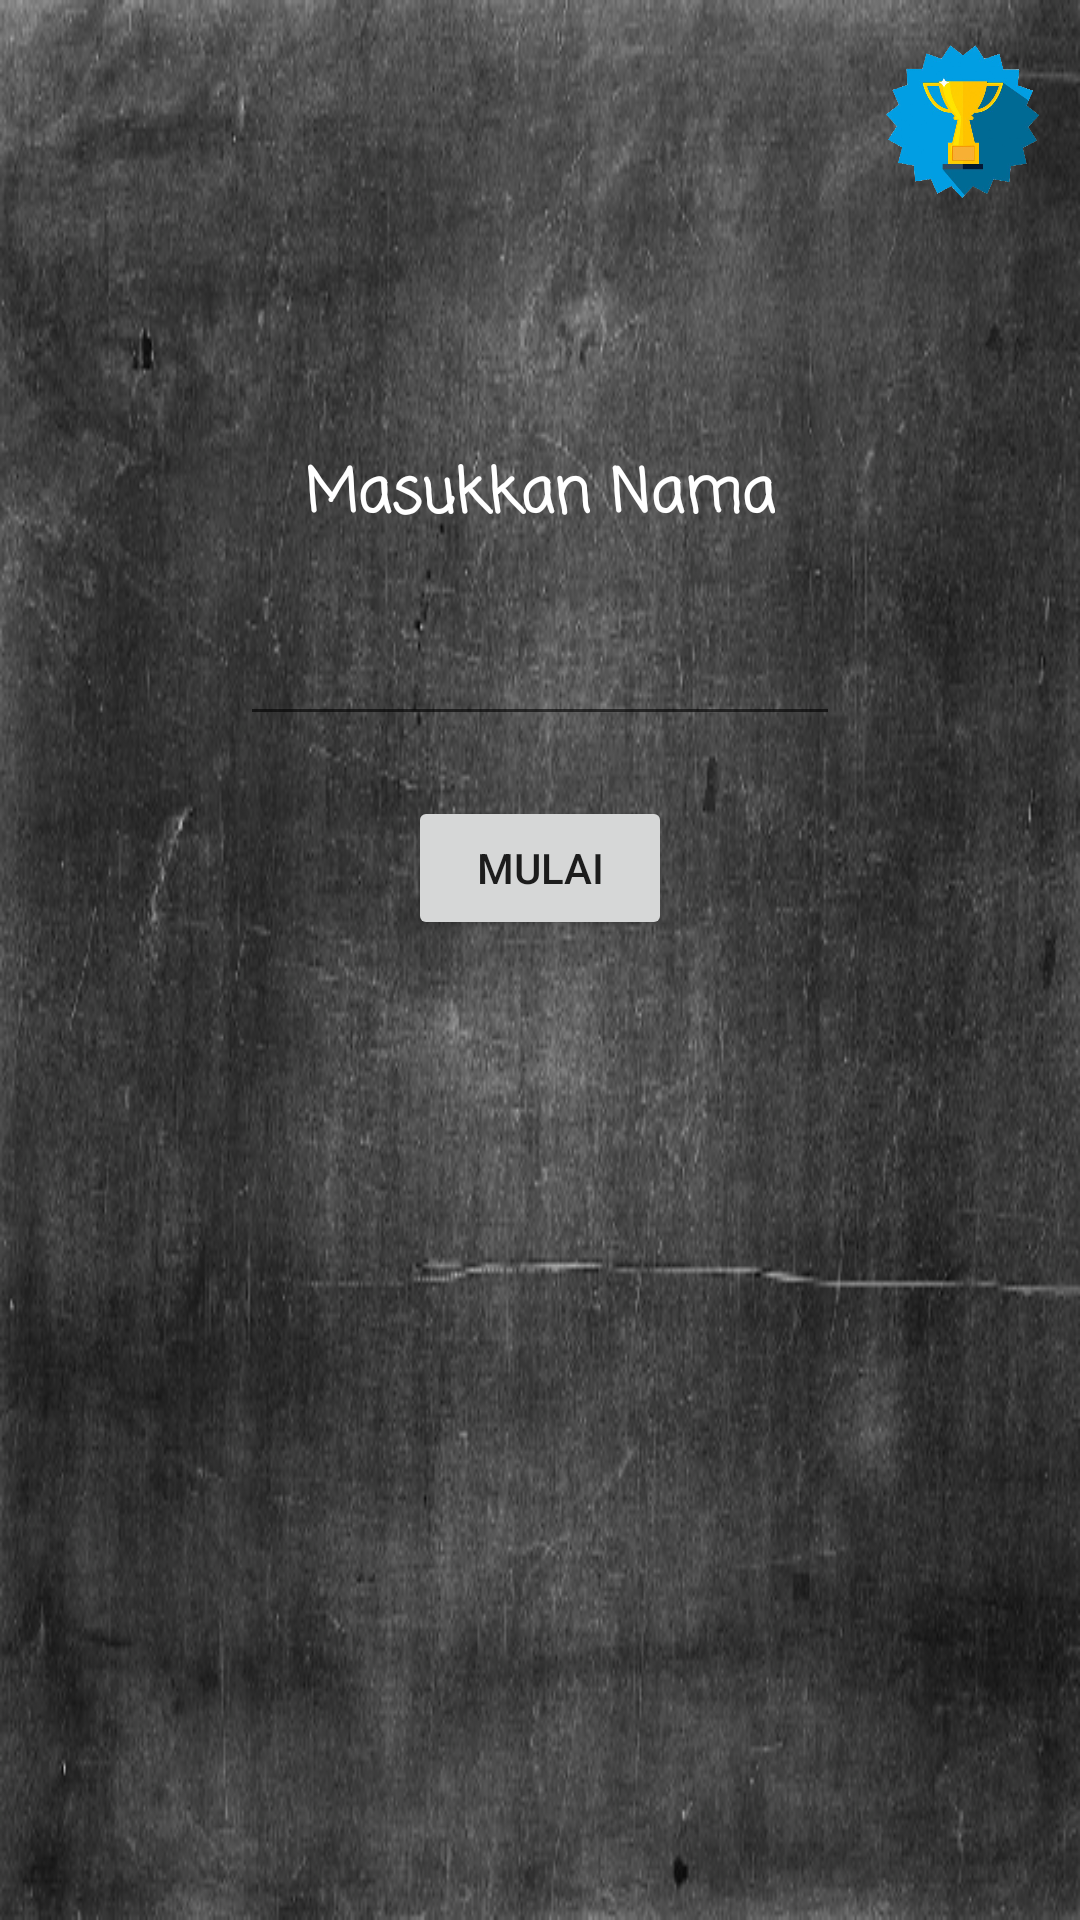

Screen size 1080px x 1920px. Icon name, then its center in pixels as [x,y]:
trophies: [960,120]
